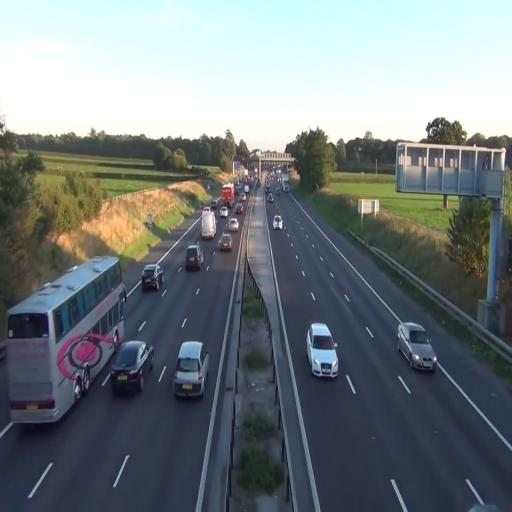vehicle: (3, 254, 128, 424), (110, 339, 154, 394), (172, 341, 210, 398), (397, 321, 437, 373), (306, 322, 338, 379), (142, 262, 164, 293), (186, 244, 203, 272), (216, 233, 232, 252), (227, 216, 239, 234), (272, 214, 282, 230)
